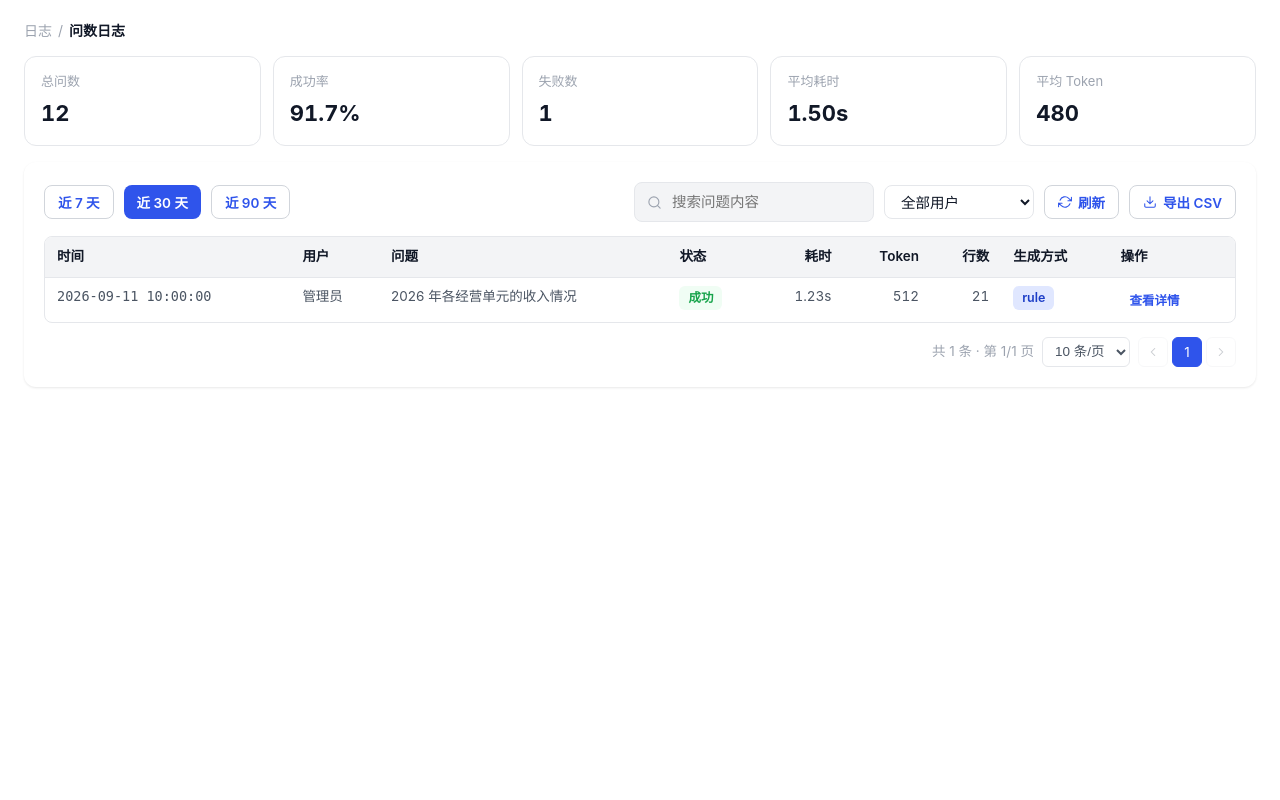
Test: LogsPage — 详情弹窗 › 点关闭后弹窗消失
The image size is (1280, 800).
Expected: the text "2026 年各经营单元的收入情况" is shown, top-left (379, 278), bottom-right (667, 322)
Click the button "查看详情": (1154, 300) top-left (1120, 286), bottom-right (1188, 314)
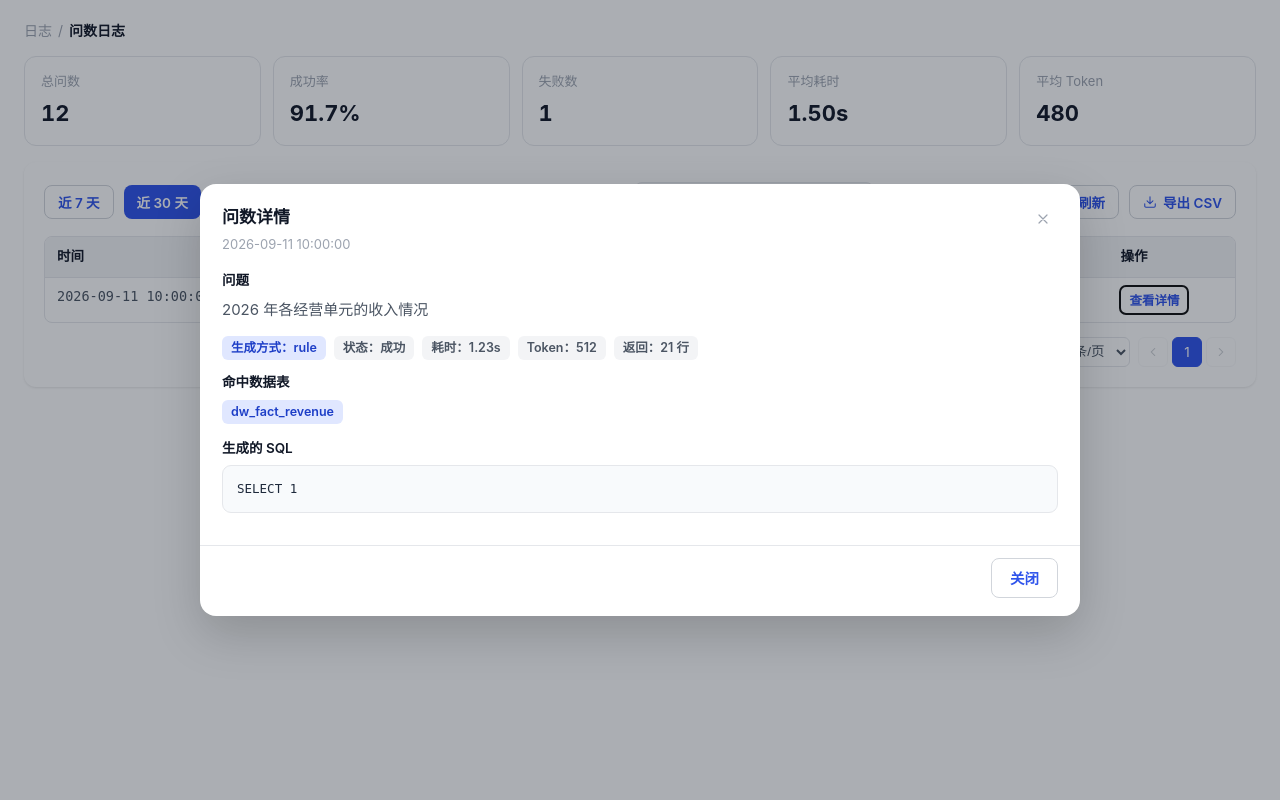
Note: 弹窗里「关闭」有两个：右上角图标按钮（aria-label）与底部文字按钮，这里点底部的
Click the button "关闭": (1024, 578) top-left (991, 558), bottom-right (1058, 598)
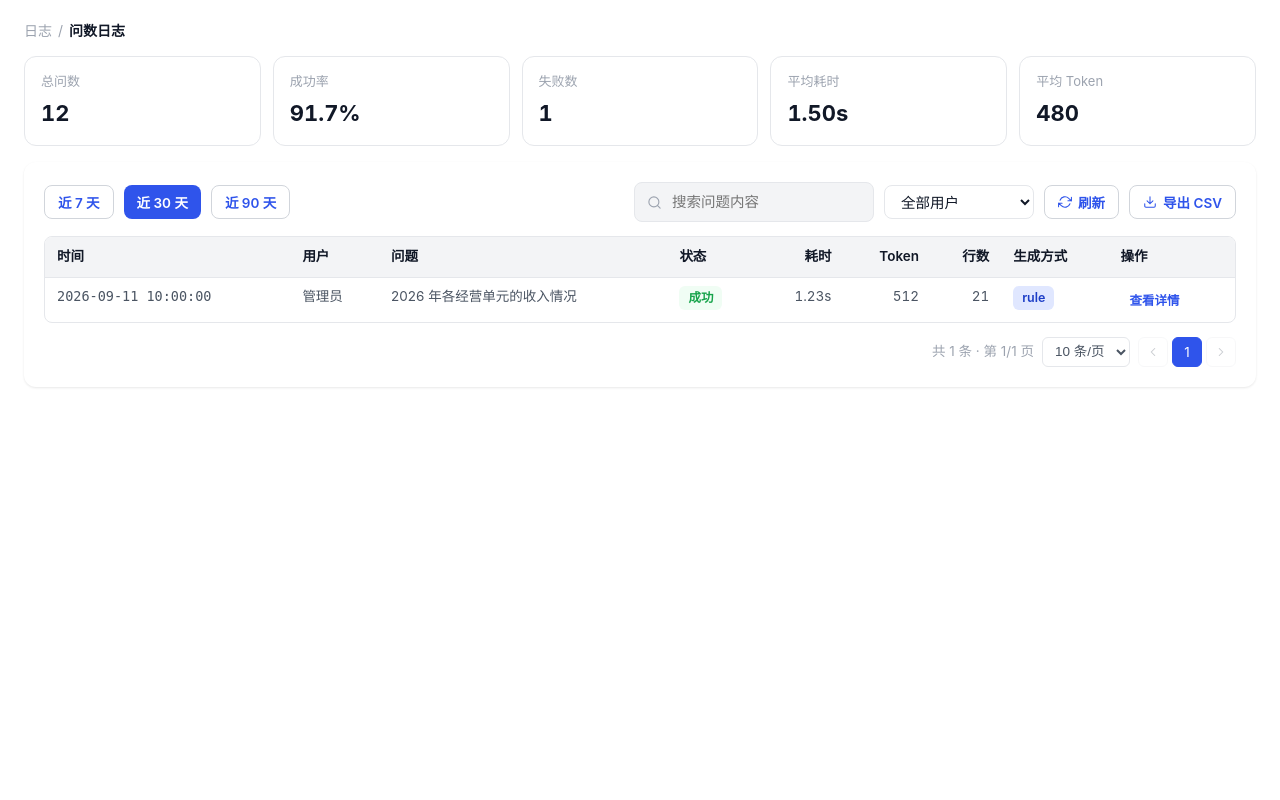
Now the dialog is gone
